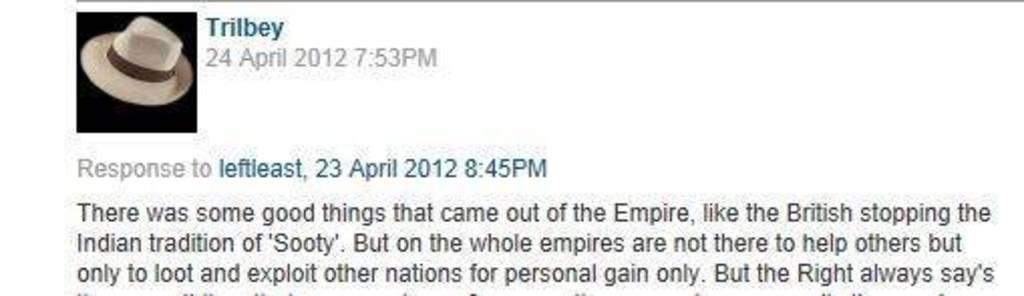Hat: (80, 15, 195, 106)
